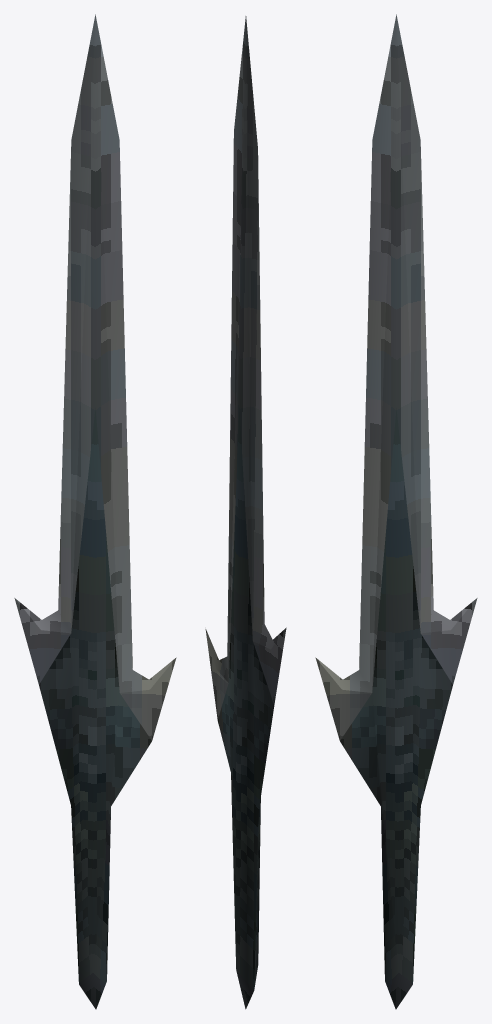
The model's file is wp_mle_2h_sword_sith_l2.fbx.
The picture shows the model from 3 angles, left to right: view 1: azimuth 90°, elevation 25°; view 2: azimuth 210°, elevation 25°; view 3: azimuth 270°, elevation 25°; orthographic projection.
Visible parts, largest first — view 1: mesh_node; view 2: mesh_node; view 3: mesh_node.
Part boxes in pixels (<box>): mesh_node: <box>14,14,176,1009</box>; mesh_node: <box>205,16,286,1009</box>; mesh_node: <box>315,14,477,1009</box>.
Bounding box in the file's own units: 0.0286 × 1.23 × 0.1815.
1 material, 1 textured.
